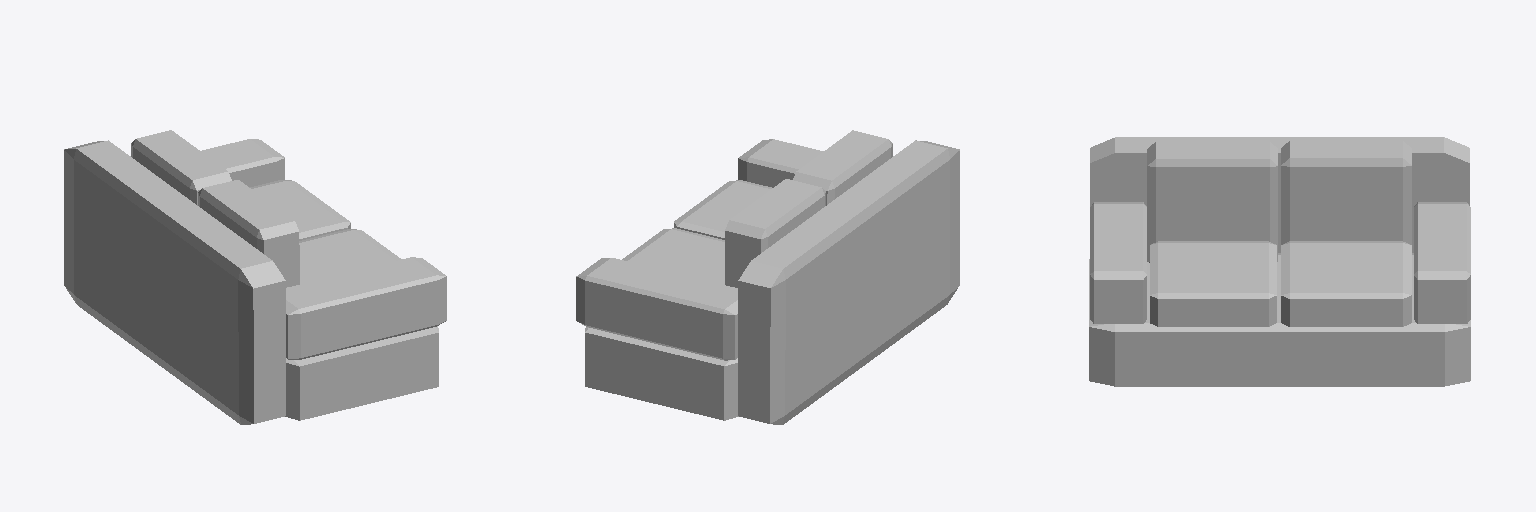
Rendered from couch_gr.obj.
3 views of the same model, side by side, from view 1: azimuth 30°, elevation 25°; view 2: azimuth 150°, elevation 25°; view 3: azimuth 270°, elevation 25° (orthographic).
Parts seen in each view (by area): view 1: couch_Cube.027; view 2: couch_Cube.027; view 3: couch_Cube.027.
Part boxes in pixels (x1,y1,x2,y2): couch_Cube.027: (64,130,446,424); couch_Cube.027: (576,130,959,424); couch_Cube.027: (1089,137,1470,386).
Size of the model in its own units: 4.51 by 3.73 by 7.45.